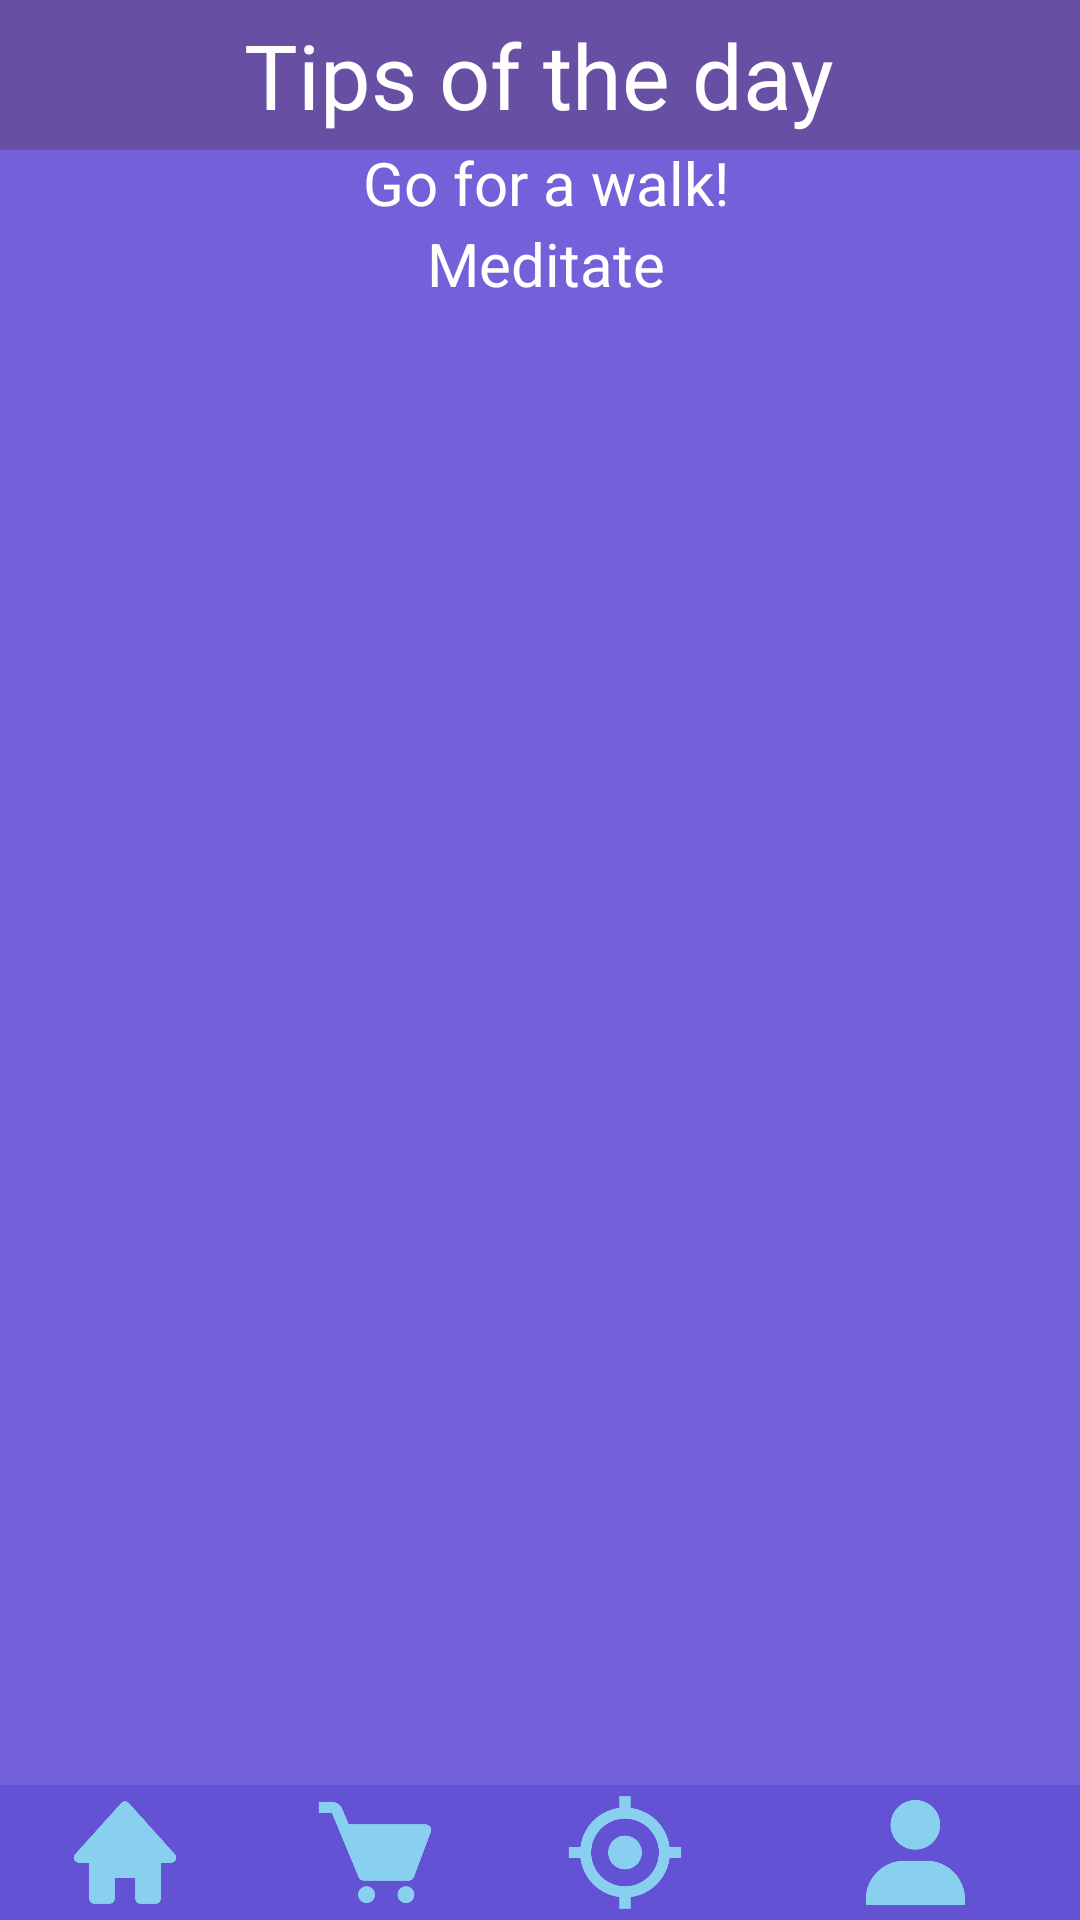

Where icons sit on this 1080 x 1920 app screen, as (x1, y1, x2, y2):
home: (74, 1801, 176, 1904)
profile: (866, 1800, 965, 1905)
shop: (319, 1802, 431, 1903)
